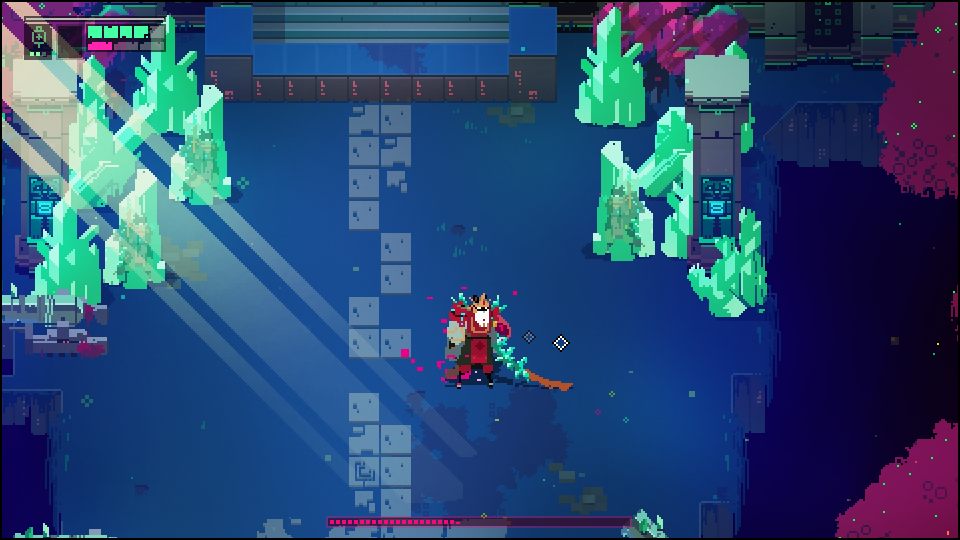hanged_man: (432, 287, 537, 393)
